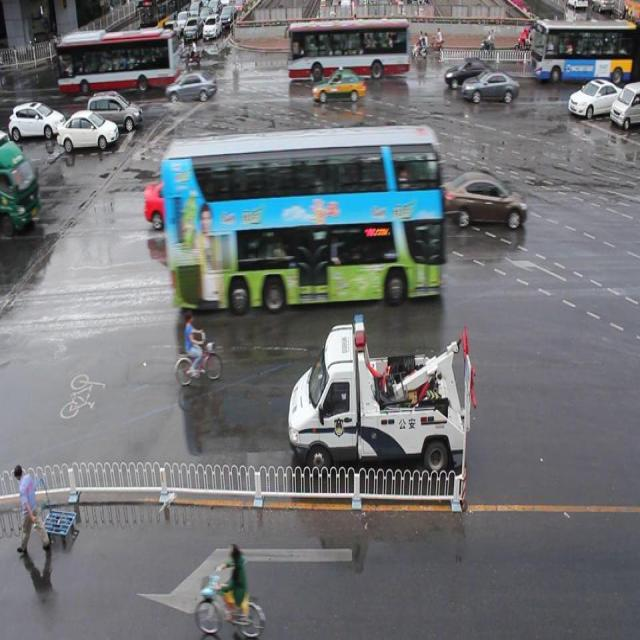car: (443, 168, 525, 230), (144, 174, 220, 229), (373, 149, 444, 191), (566, 78, 623, 118), (461, 67, 518, 106), (310, 68, 366, 106), (166, 69, 217, 104), (444, 58, 497, 90)
van: (166, 126, 438, 303), (287, 20, 408, 80), (530, 18, 640, 82)
